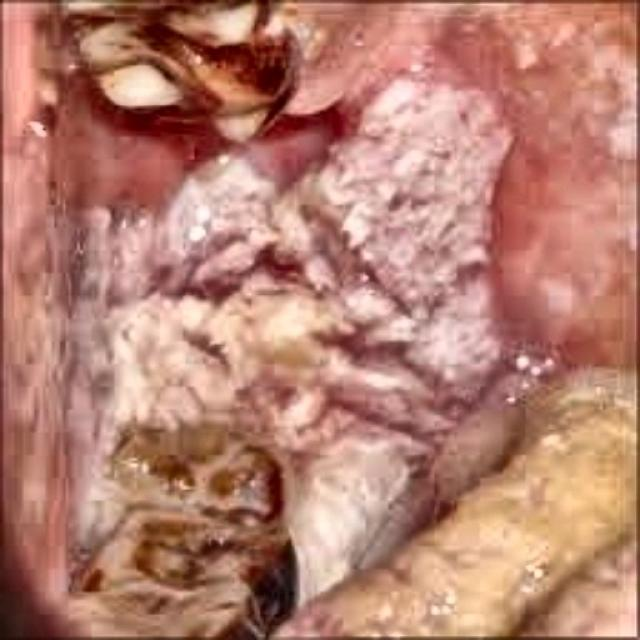cancer-detection: (48, 72, 589, 638)
processing_area: (1, 0, 637, 638)
